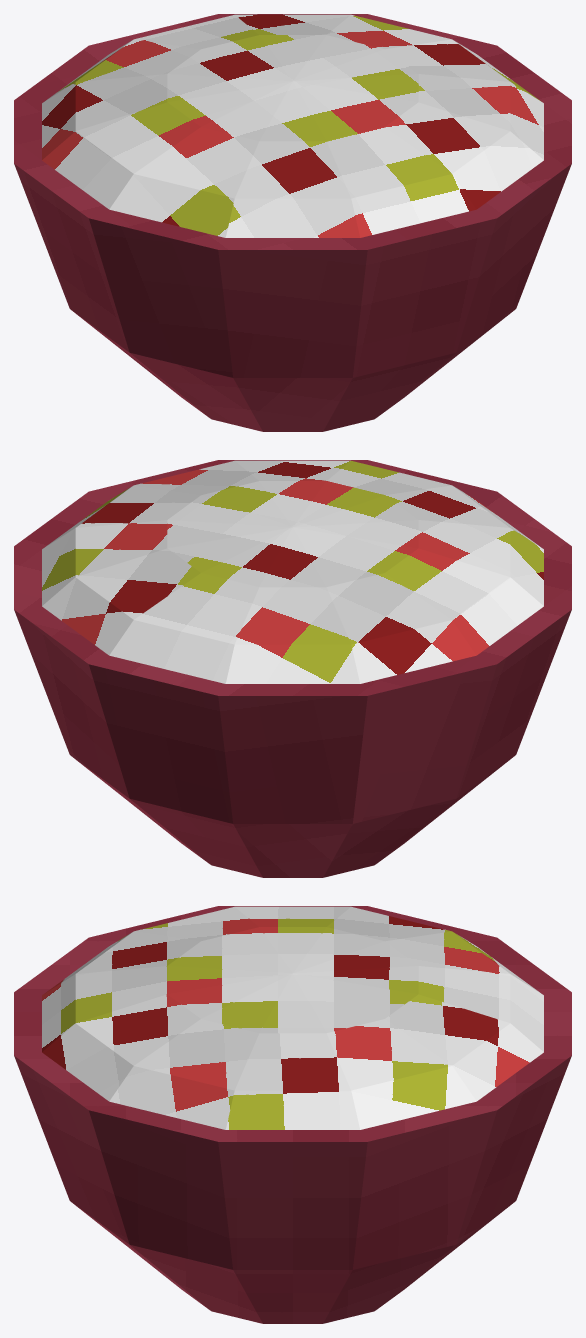
The model's file is rice salad.fbx.
3 views of the same model, one above another, from view 1: azimuth 30°, elevation 25°; view 2: azimuth 150°, elevation 25°; view 3: azimuth 270°, elevation 25° (orthographic).
Parts seen in each view (by area): view 1: bowl, salad; view 2: bowl, salad; view 3: bowl, salad.
Boxes of the visible parts, left/top/right/bottom form: bowl: left=14, top=14, right=571, bottom=431; salad: left=42, top=14, right=543, bottom=237; bowl: left=14, top=460, right=571, bottom=877; salad: left=42, top=460, right=543, bottom=683; bowl: left=14, top=906, right=571, bottom=1323; salad: left=42, top=906, right=543, bottom=1129.
Bounding box in the file's own units: 62.5 × 37.5 × 62.5.
2 materials, 2 textured.
